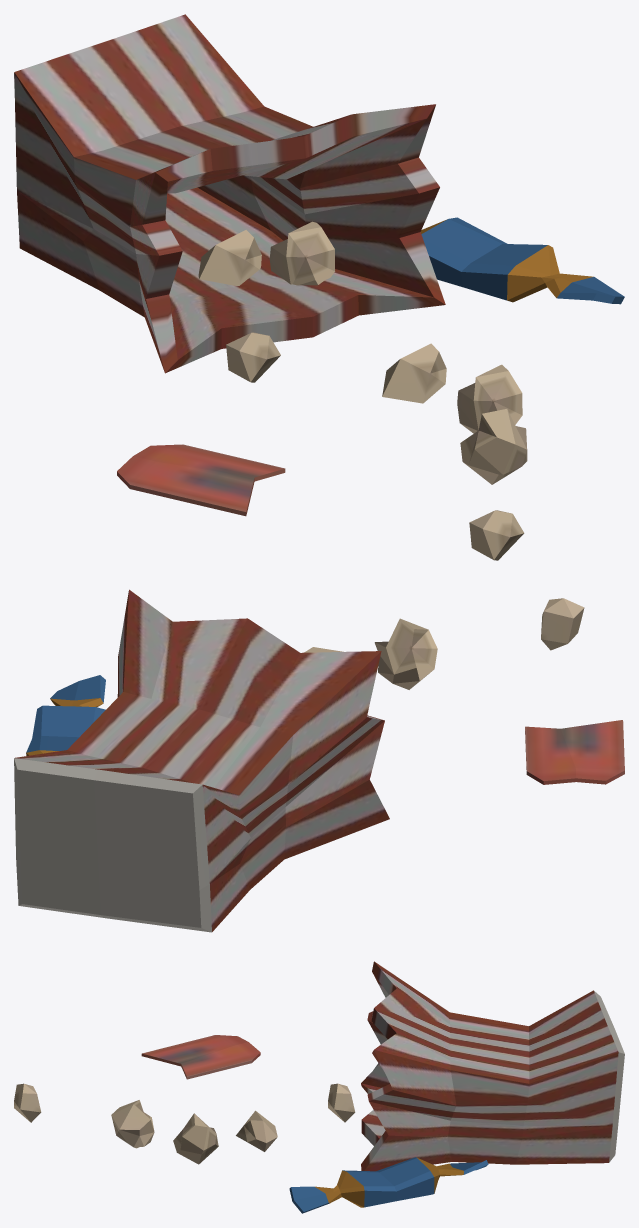
The model's file is SM_Prop_Rubbish_Pile_03.glb.
3 views of the same model, one above another, from view 1: azimuth 30°, elevation 25°; view 2: azimuth 150°, elevation 25°; view 3: azimuth 270°, elevation 25° (orthographic). The views are drawn at different scales.
Visible parts, largest first — view 1: SM_Prop_Rubbish_Pile_03; view 2: SM_Prop_Rubbish_Pile_03; view 3: SM_Prop_Rubbish_Pile_03.
Boxes of the visible parts, x1,y1,x2,y2 form: SM_Prop_Rubbish_Pile_03: (14,14,624,560); SM_Prop_Rubbish_Pile_03: (14,589,624,932); SM_Prop_Rubbish_Pile_03: (14,961,624,1213).
Size of the model in its own units: 56.86 by 20.76 by 82.69.
Materials: 1 (1 with a texture image).
